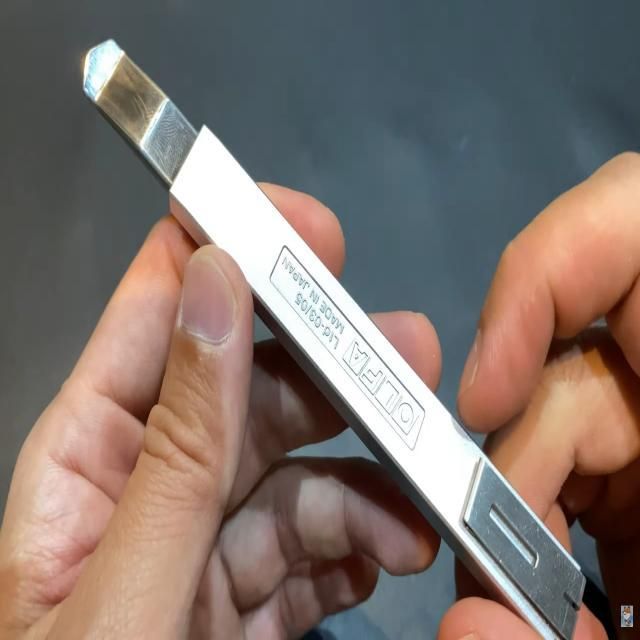cutter: (0, 19, 640, 640)
